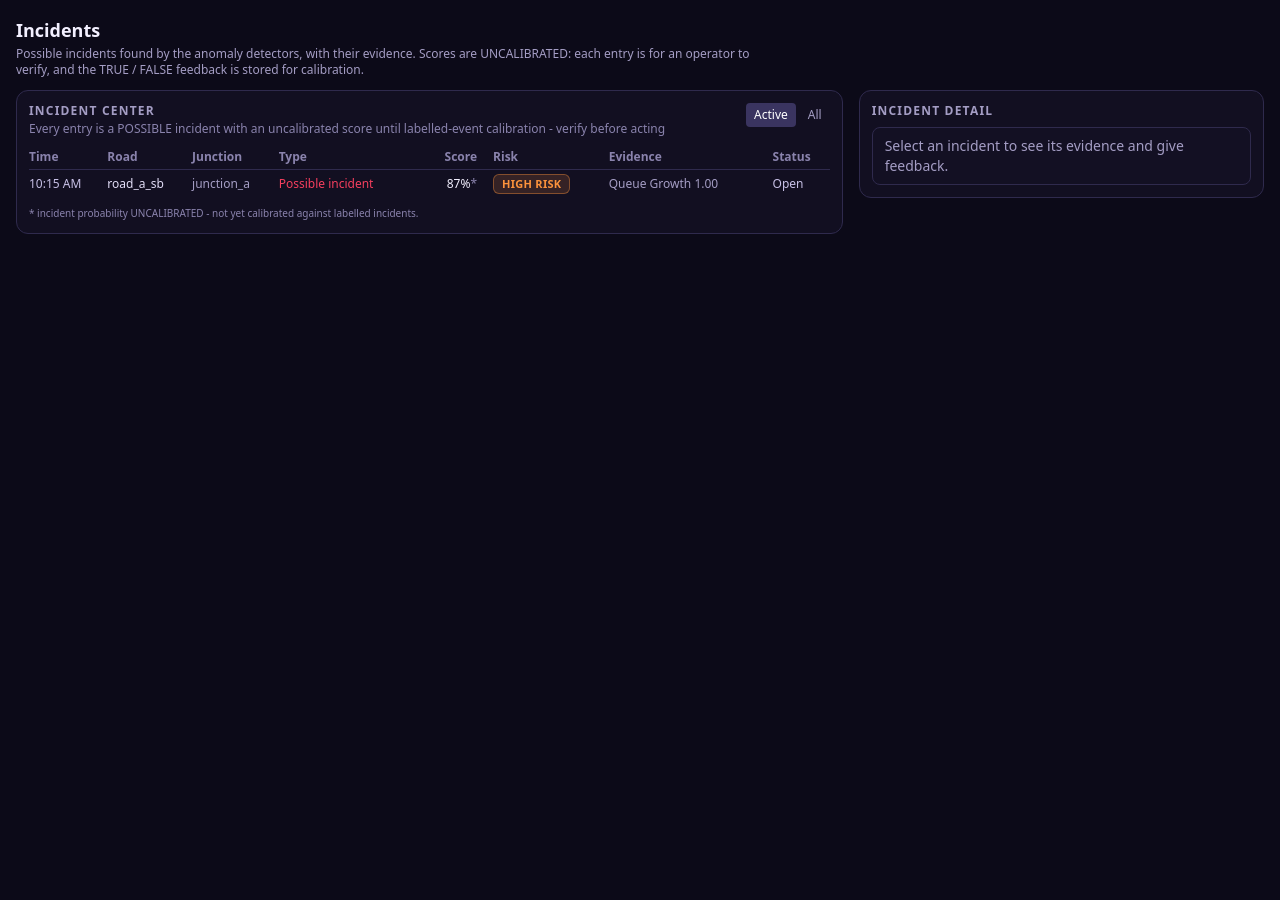
Test: IncidentCenter › lists incidents and stores operator feedback through the API
This screenshot has width=1280, height=900.
Later steps or results of the test are not shown.
Click the text "road_a_sb" at (150, 184), box [107,170,192,198]
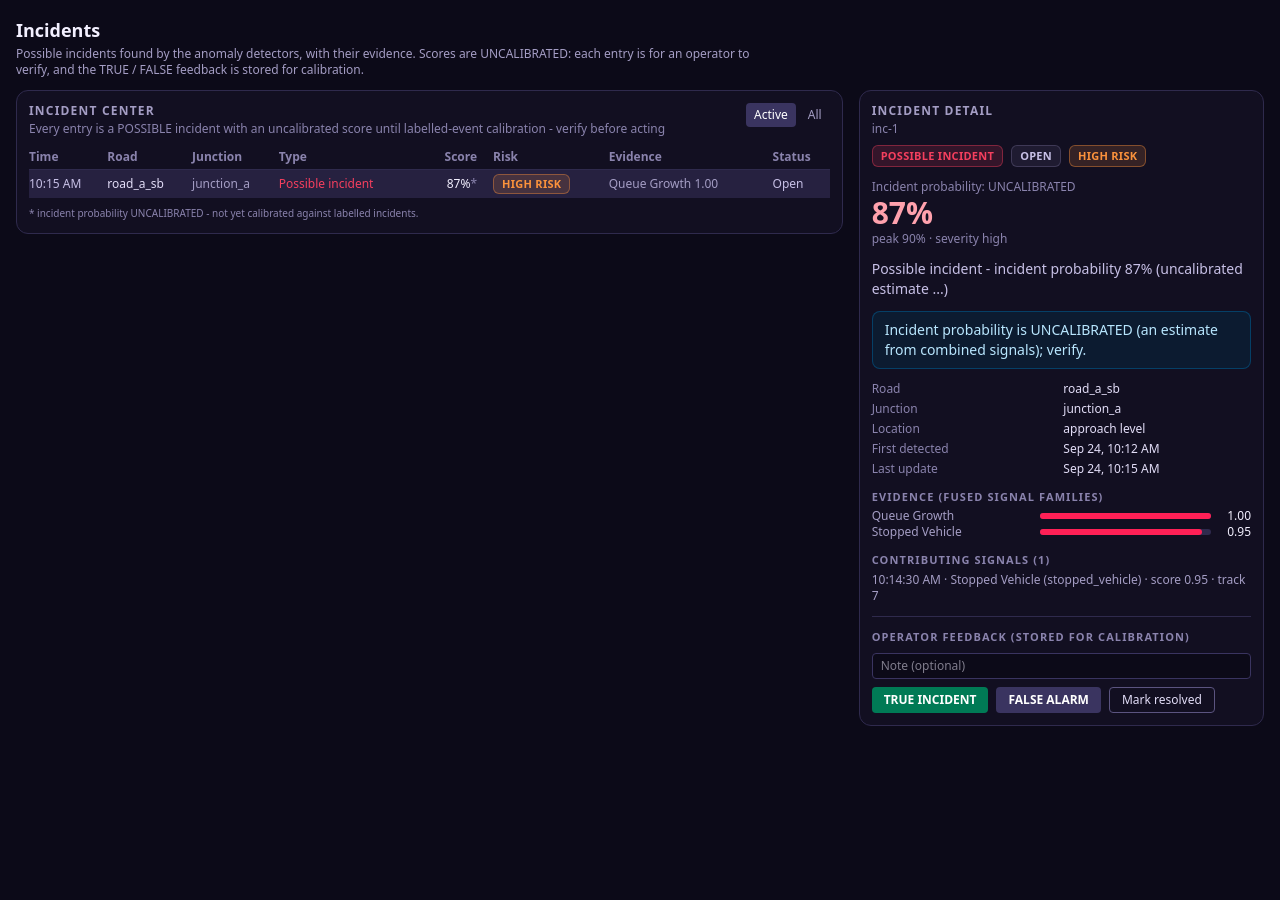
Check: the text "Incident probability: UNCALIBRATED" is shown, box [872,178,1076,195]
